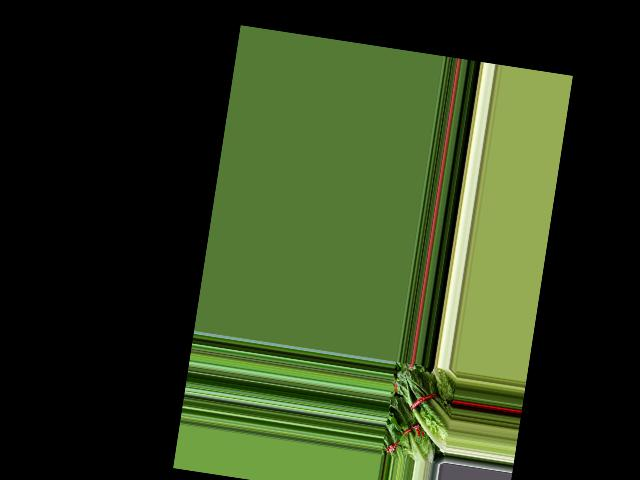lettuce: (386, 366, 458, 451)
